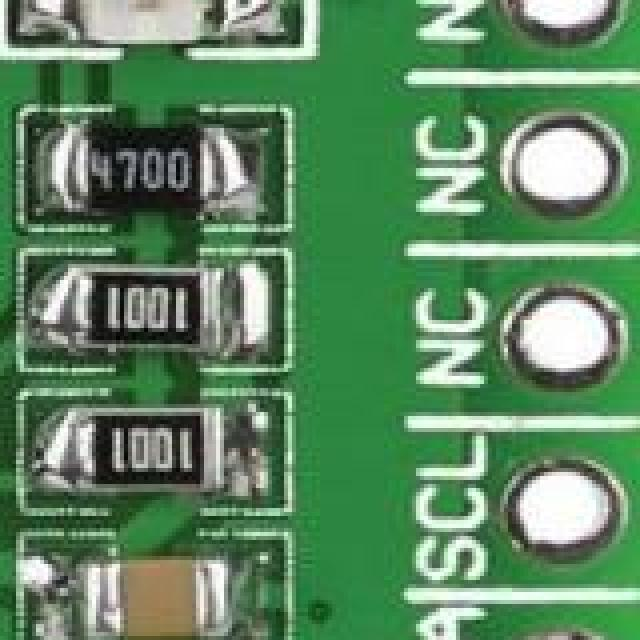LED: (60, 0, 248, 56)
capacitor: (64, 536, 248, 640)
resistor: (60, 268, 230, 366), (80, 136, 264, 222), (100, 416, 250, 502)
